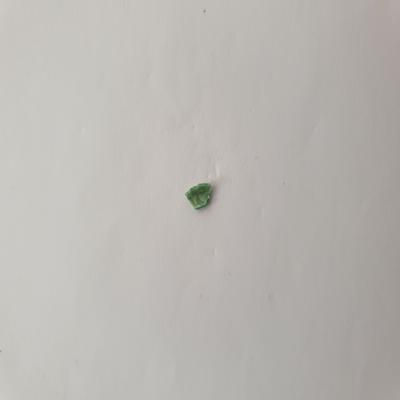plastic: (182, 179, 217, 211)
